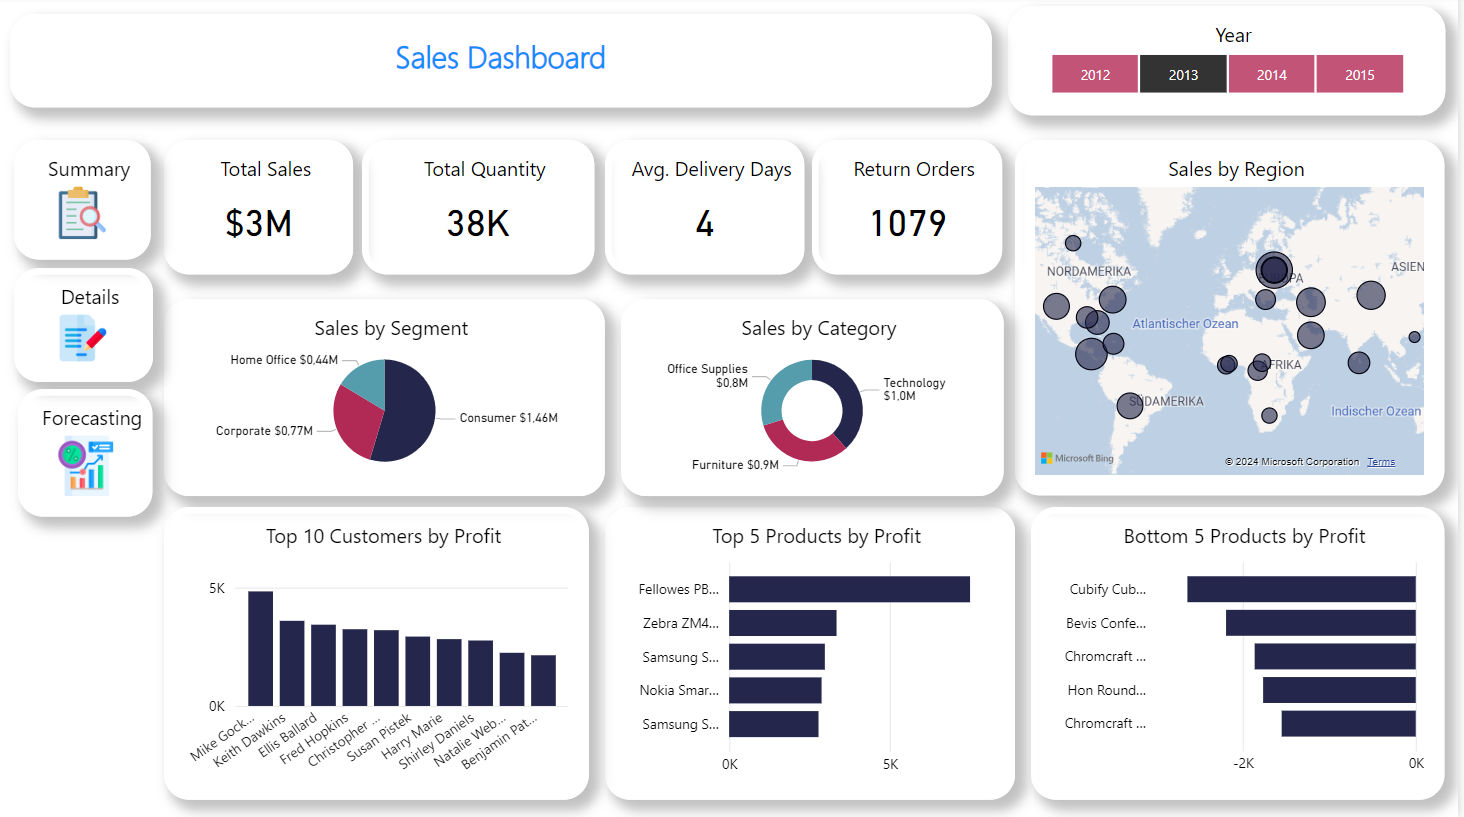

The dashboard page shown, as its layout file describes it:
{"tool":"powerbi","page":{"name":"Summary","canvas":[1280,720],"ordinal":0},"visuals":[{"type":"card","title":"Total Sales","fields":{"Values":["Sum(Orders.Sales)"]},"box":[144,125.9,166.5,118.2],"z":0},{"type":"card","title":"Total Quantity","fields":{"Values":["Sum(Orders.Quantity)"]},"box":[318.3,125.9,203.6,118.2],"z":1000},{"type":"card","title":"Avg. Delivery Days","fields":{"Values":["Avg(Orders.Delivery Days)"]},"box":[531.3,125.9,175.1,118.2],"z":2000},{"type":"slicer","title":"Year","fields":{"Values":["Orders.Year"]},"box":[885,7.8,383.8,95.7],"z":3000},{"type":"card","title":"Return Orders","fields":{"Values":["CountNonNull(Returns.Return Orders)"]},"box":[713.3,125.9,167.3,118.2],"z":4000},{"type":"map","title":"Sales by Region","fields":{"Size":["Sum(Orders.Sales)"],"Category":["Orders.Region"]},"box":[891,125.9,376.9,312.2],"z":5000},{"type":"clusteredBarChart","title":"Top 5 Products by Profit","fields":{"Y":["Sum(Orders.Profit)"],"Category":["Orders.Product Name"]},"box":[531.3,447.7,359.7,257],"z":6000},{"type":"clusteredBarChart","title":"Bottom 5 Products by Profit","fields":{"Y":["Sum(Orders.Profit)"],"Category":["Orders.Product Name"]},"box":[905.7,447.9,362.8,256.5],"z":7000},{"type":"pieChart","title":"Sales by Segment","fields":{"Category":["Orders.Segment"],"Y":["Sum(Orders.Sales)"]},"box":[144,264.8,387.3,173.4],"z":8000},{"type":"donutChart","title":"Sales by Category","fields":{"Y":["Sum(Orders.Sales)"],"Category":["Orders.Category"]},"box":[545.1,264.8,335.5,173.4],"z":9000},{"type":"columnChart","title":"Top 10 Customers by Profit","fields":{"Category":["Orders.Customer Name"],"Y":["Sum(Orders.Profit)"]},"box":[144,447.7,373.5,257],"z":10000},{"type":"textbox","box":[8.6,14.7,861.7,81.9],"z":11000},{"type":"image","title":"Summary","box":[12.1,125.9,119.9,105.2],"z":12000},{"type":"image","title":"Details","box":[12.1,238.1,121.6,100.1],"z":13000},{"type":"image","title":"Forecasting","box":[15.5,344.2,118.2,112.1],"z":14000}]}

Visuals, with their boxes in screenshot pixels (x1, y1, x2, y2), scaled from the page's 1280x720 canvas onto the 1464x817 screenshot:
"Total Sales" card: <region>165, 143, 355, 277</region>
"Total Quantity" card: <region>364, 143, 597, 277</region>
"Avg. Delivery Days" card: <region>608, 143, 808, 277</region>
"Year" slicer: <region>1012, 9, 1451, 117</region>
"Return Orders" card: <region>816, 143, 1007, 277</region>
"Sales by Region" map: <region>1019, 143, 1450, 497</region>
"Top 5 Products by Profit" clusteredBarChart: <region>608, 508, 1019, 800</region>
"Bottom 5 Products by Profit" clusteredBarChart: <region>1036, 508, 1451, 799</region>
"Sales by Segment" pieChart: <region>165, 300, 608, 497</region>
"Sales by Category" donutChart: <region>623, 300, 1007, 497</region>
"Top 10 Customers by Profit" columnChart: <region>165, 508, 592, 800</region>
textbox: <region>10, 17, 995, 110</region>
"Summary" image: <region>14, 143, 151, 262</region>
"Details" image: <region>14, 270, 153, 384</region>
"Forecasting" image: <region>18, 391, 153, 518</region>
